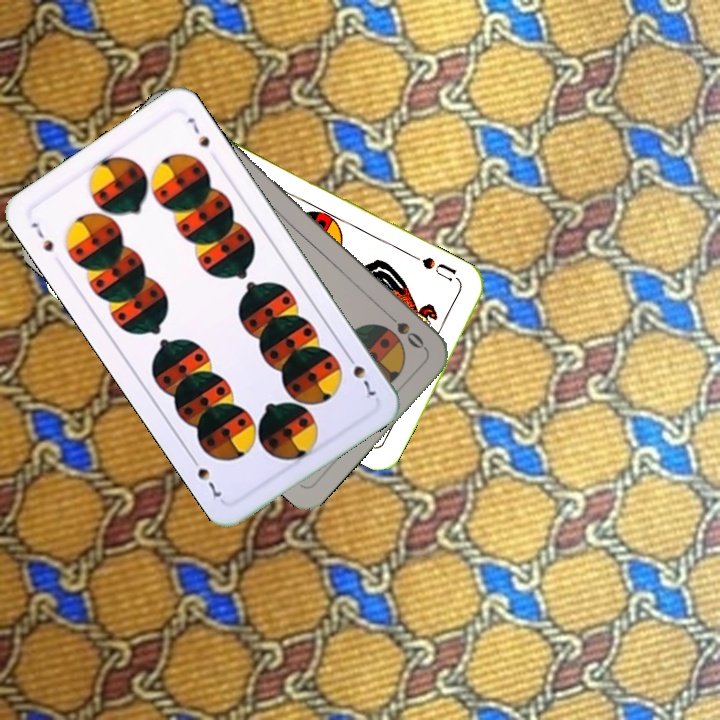S7: (342, 349, 379, 401), (26, 218, 56, 255)
SO: (380, 307, 428, 352)
SU: (410, 251, 459, 284)
